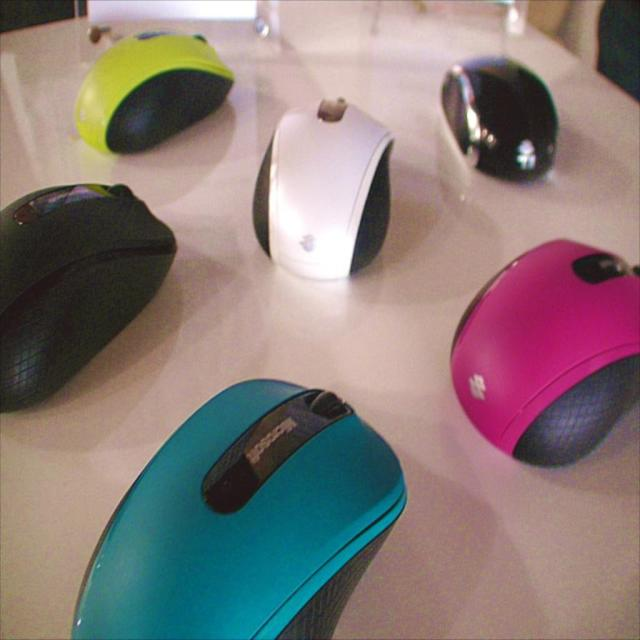Computer-mouse: (69, 374, 412, 638), (448, 231, 639, 468), (0, 185, 179, 416), (249, 95, 392, 281), (72, 27, 236, 156), (439, 51, 561, 184)
